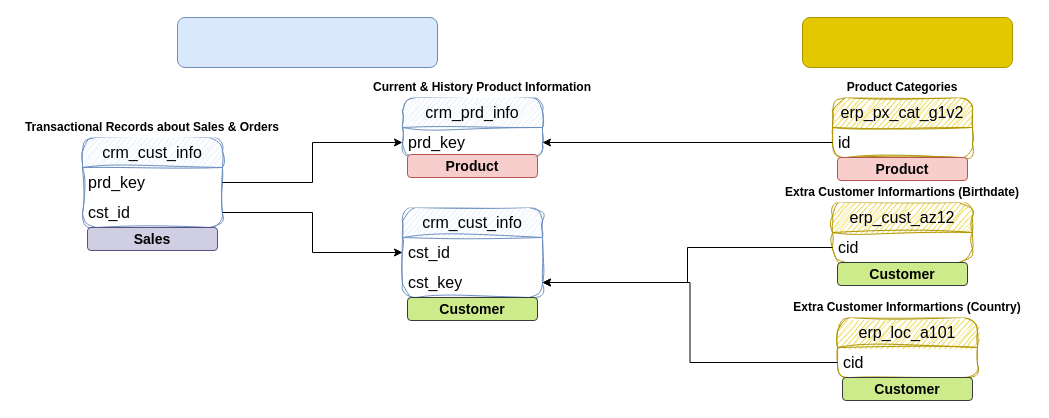
The diagram is 1049 pixels wide and 418 high, and some of its shapes have lost their labels. The shapes that lost their labels are listed below. From the top down, each one's centre as x and y in pixels, then its label:
pixel 307 42: CRM
pixel 907 42: ERP
pixel 472 197: Customer Information
